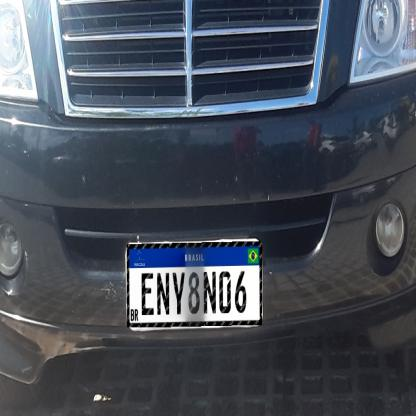PlacaM: (127, 242, 262, 327)
